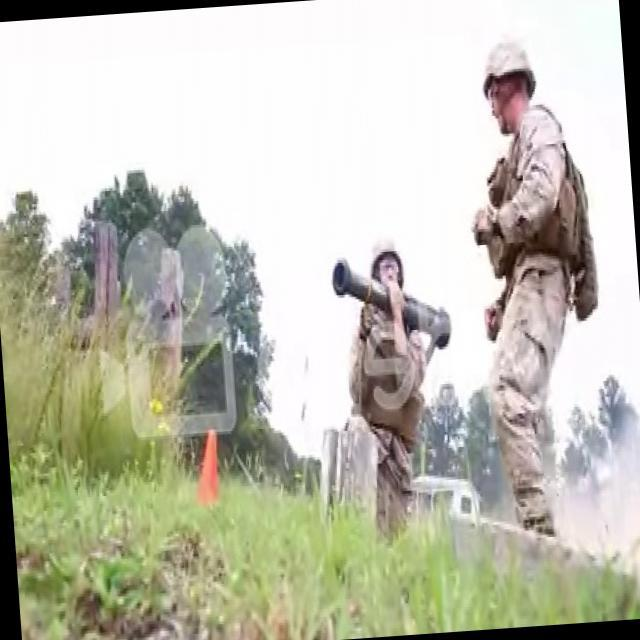rocket: (331, 251, 447, 352)
